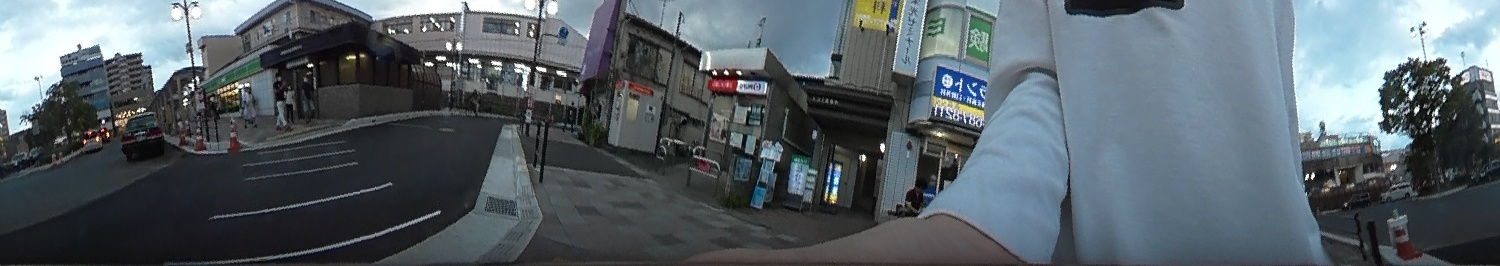difficult_person: (297, 73, 319, 127), (270, 72, 289, 128), (236, 83, 259, 129), (202, 87, 222, 125), (280, 85, 296, 121), (466, 86, 481, 120)
person: (904, 171, 926, 216)
